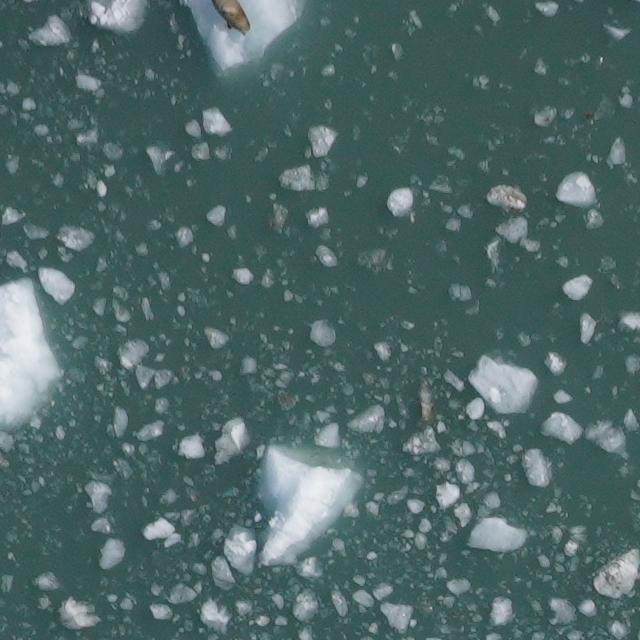seal: (205, 0, 254, 40)
